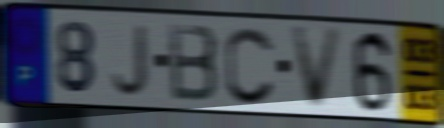6: (350, 27, 395, 114)
8: (55, 18, 98, 97)
B: (166, 20, 221, 104)
C: (223, 23, 277, 107)
J: (110, 22, 151, 99)
V: (289, 26, 347, 112)
